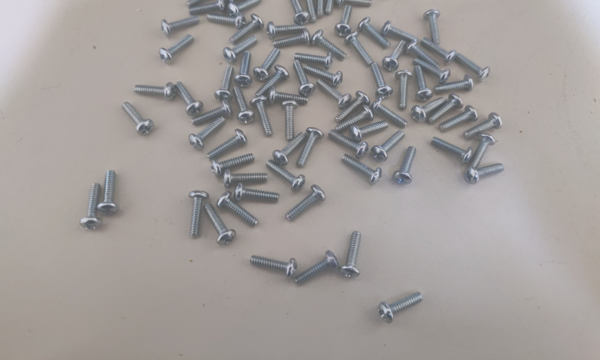shortscrew: (295, 250, 339, 286), (286, 185, 326, 223), (379, 292, 425, 324), (217, 192, 259, 227), (203, 203, 236, 246), (334, 89, 371, 126), (341, 155, 383, 187), (189, 116, 225, 152), (266, 160, 307, 191), (207, 129, 248, 160), (272, 132, 308, 166), (249, 254, 297, 279), (371, 98, 409, 129), (310, 30, 348, 61), (229, 13, 264, 46), (191, 100, 233, 127), (432, 138, 474, 165), (297, 127, 324, 169), (316, 80, 353, 110), (80, 183, 103, 231), (256, 65, 290, 97), (122, 101, 153, 136), (159, 35, 194, 66), (454, 53, 490, 83), (372, 130, 406, 161), (440, 105, 479, 132), (335, 104, 374, 131), (428, 94, 463, 124), (346, 32, 375, 68), (223, 36, 259, 65), (97, 170, 119, 217), (465, 112, 504, 138), (412, 59, 451, 85), (211, 154, 255, 177), (175, 81, 203, 117), (253, 47, 281, 83), (357, 18, 391, 47), (406, 40, 441, 68), (340, 232, 361, 278), (234, 182, 280, 203), (190, 190, 209, 240), (251, 96, 273, 138), (233, 85, 256, 125), (393, 147, 417, 185), (267, 86, 309, 107), (349, 121, 389, 143), (371, 62, 394, 100), (382, 21, 418, 45), (303, 66, 344, 87), (423, 40, 456, 66), (472, 134, 497, 168), (161, 15, 201, 36), (412, 98, 447, 122), (464, 165, 505, 185), (295, 60, 317, 97), (435, 74, 475, 94), (280, 100, 299, 142), (224, 169, 267, 187), (383, 40, 407, 72), (133, 83, 177, 100), (215, 66, 235, 103), (395, 70, 413, 111), (206, 12, 246, 30), (274, 28, 311, 47), (267, 21, 306, 39), (415, 66, 434, 101), (295, 51, 334, 68), (235, 52, 253, 88), (424, 10, 442, 45), (228, 0, 264, 17), (335, 5, 353, 37), (290, 0, 311, 26), (300, 0, 318, 23), (335, 0, 373, 9), (313, 0, 329, 18), (324, 0, 343, 15), (187, 0, 222, 8), (225, 0, 262, 5)
